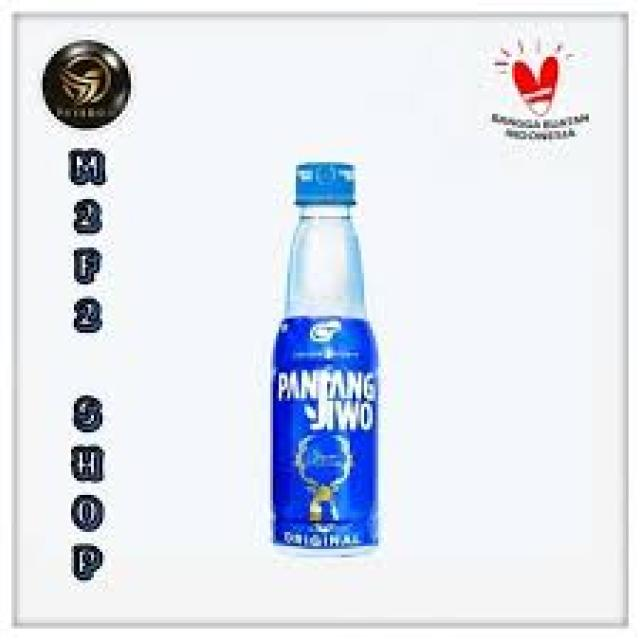bottle: (207, 122, 420, 592)
